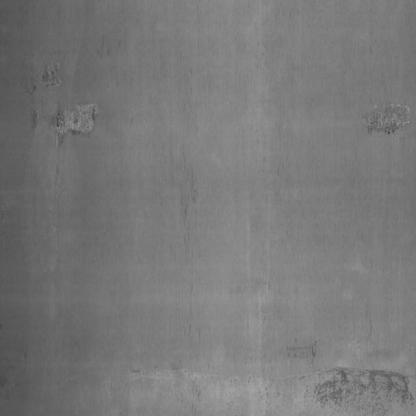rolled_pit: (296, 351, 408, 416), (358, 93, 414, 143), (47, 100, 101, 141)
